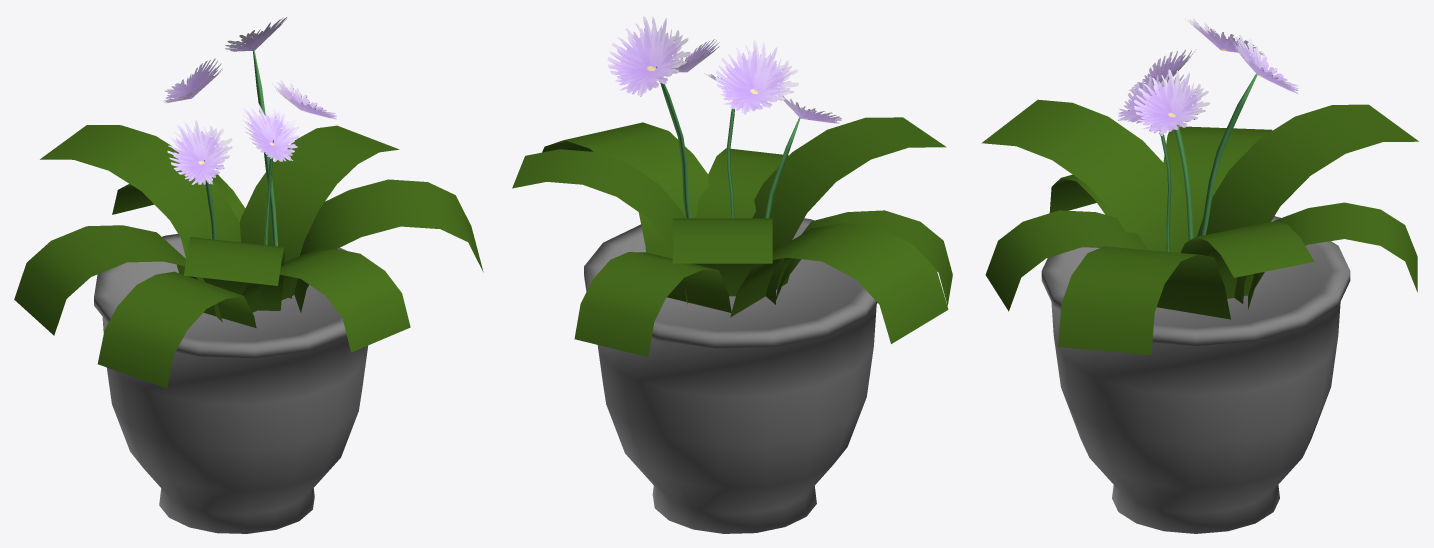
The model's file is SM_flowerpot_09.fbx.
The picture shows the model from 3 angles, left to right: view 1: azimuth 30°, elevation 25°; view 2: azimuth 150°, elevation 25°; view 3: azimuth 270°, elevation 25°; orthographic projection. The views are drawn at different scales.
Parts seen in each view (by area): view 1: Cylinder424245; view 2: Cylinder424245; view 3: Cylinder424245.
Boxes of the visible parts, box(x1,y1,x2,y2) form: Cylinder424245: box(14, 17, 483, 533); Cylinder424245: box(512, 16, 952, 533); Cylinder424245: box(981, 19, 1418, 533).
Bounding box in the file's own units: 27.61 × 29.78 × 24.1.
